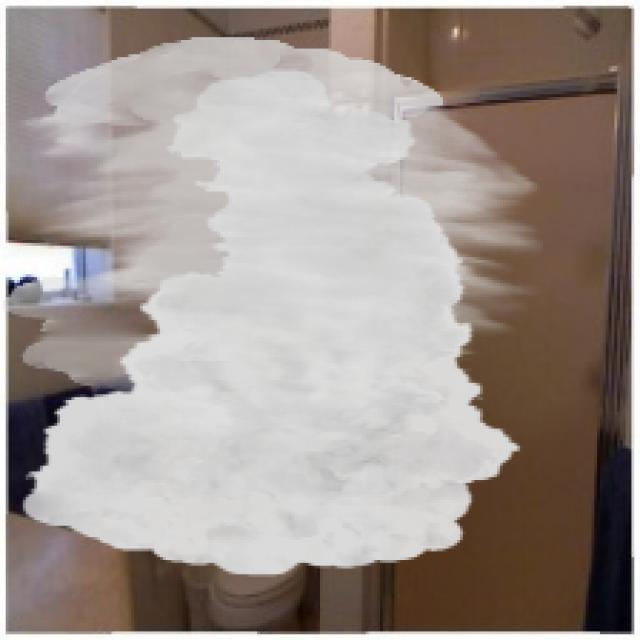Smoke: (3, 37, 543, 577)
